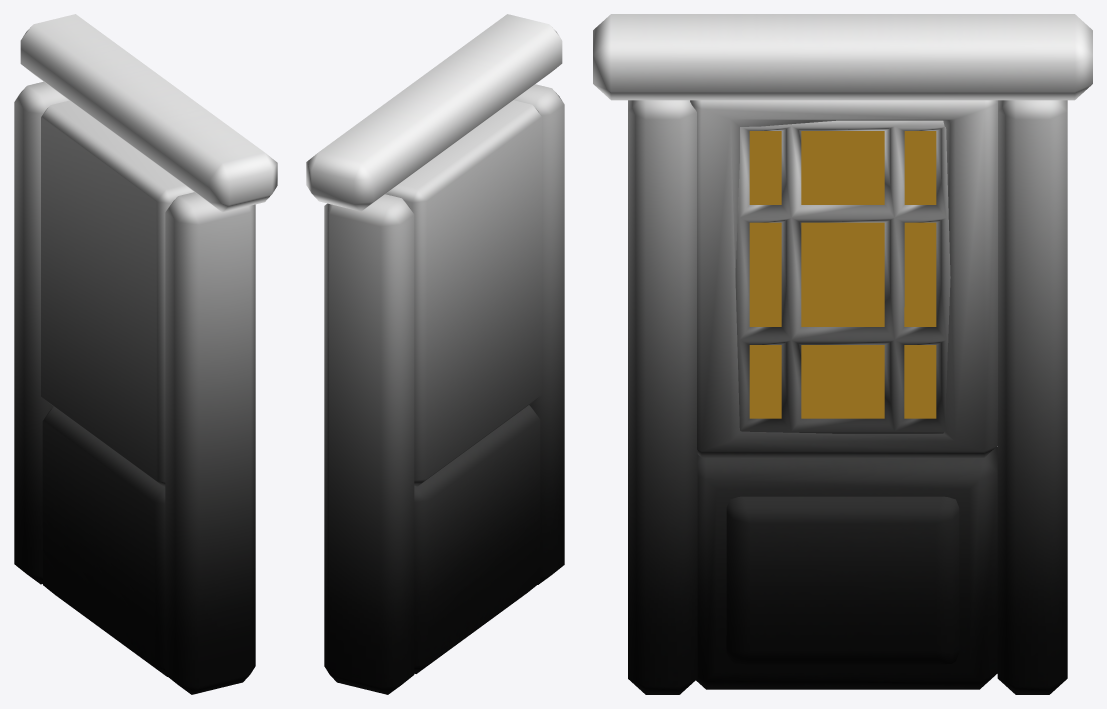
The model's file is SM_Brick_Door_01.fbx.
The picture shows the model from 3 angles, left to right: view 1: azimuth 30°, elevation 25°; view 2: azimuth 150°, elevation 25°; view 3: azimuth 270°, elevation 25°; orthographic projection. The views are drawn at different scales.
Visible parts, largest first — view 1: SM_Brick_Door_01; view 2: SM_Brick_Door_01; view 3: SM_Brick_Door_01.
Boxes of the visible parts, x1,y1,x2,y2 form: SM_Brick_Door_01: [14, 14, 277, 694]; SM_Brick_Door_01: [306, 14, 564, 694]; SM_Brick_Door_01: [593, 14, 1092, 694].
Size of the model in its own units: 0.0956 by 0.5829 by 0.4.
